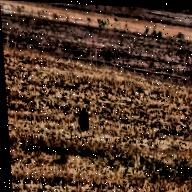boar: (73, 96, 94, 137)
